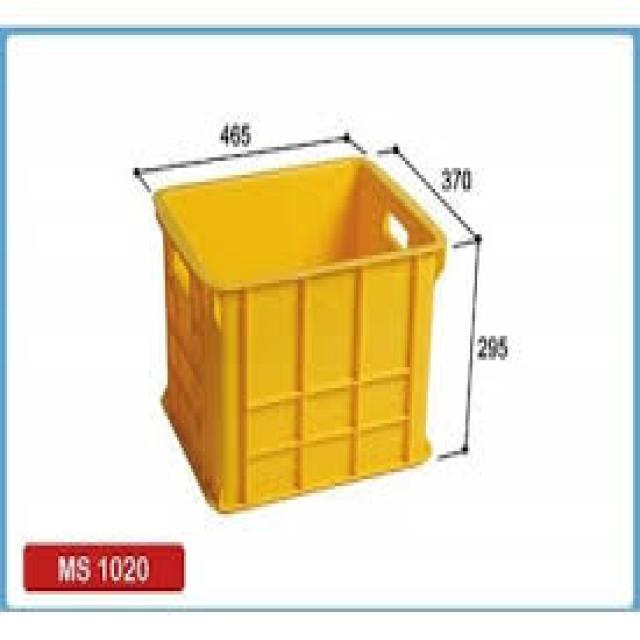basket: (157, 157, 447, 512)
